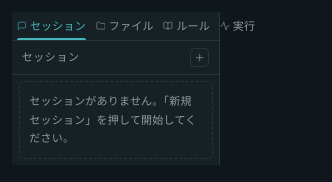
Sidebar › ② Files tab クリックで activeTab=files に切替・store も更新
Click the tab with test id "sidebar-tab-files": (125,26) left=91, top=12, right=158, bottom=40
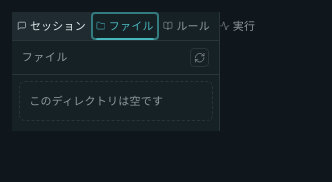
Now the panel with test id "sidebar-panel-files" is shown, box left=12, top=41, right=219, bottom=131
